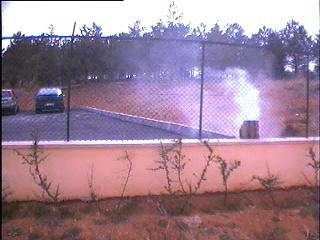smoke: (147, 45, 278, 139)
